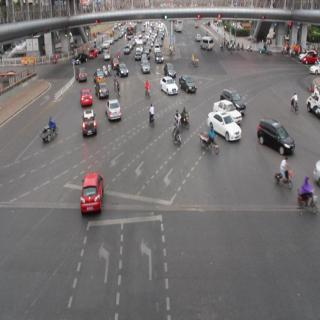BigCar: (123, 23, 139, 45), (170, 18, 186, 38)
Car: (253, 114, 294, 156), (78, 168, 106, 225), (203, 100, 236, 148), (217, 79, 245, 118), (102, 92, 122, 127), (80, 107, 101, 135), (156, 72, 178, 98), (197, 34, 222, 55), (219, 99, 239, 122), (176, 69, 197, 89), (78, 84, 97, 106), (112, 60, 129, 84), (71, 62, 91, 82), (92, 63, 106, 89), (92, 78, 110, 95), (122, 38, 135, 57), (132, 47, 146, 63), (109, 49, 120, 68), (141, 58, 152, 76), (163, 58, 175, 74), (153, 51, 165, 65), (195, 33, 204, 42)
